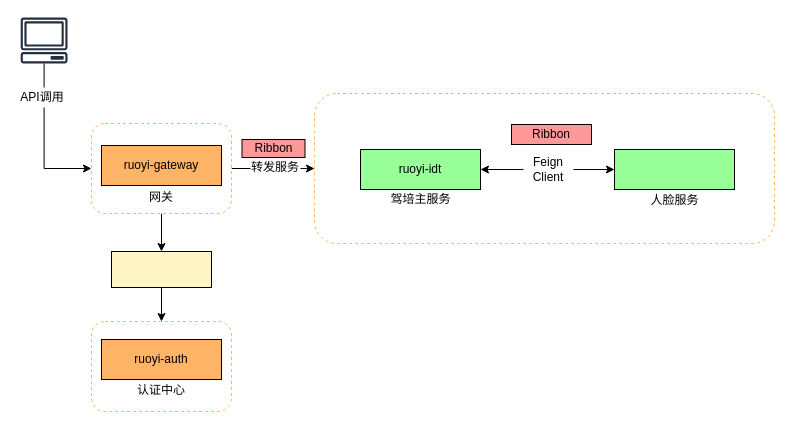
Some shapes in this 792 by 429 pixel diagram are drawn without their labels. The shapes that lost their labels are listed below. From the top down, each one's box as (x1, y1, x2, y2) in pixels, then its label:
(614, 148, 734, 190): ruoyi-facereco
(110, 250, 212, 288): 认证服务
